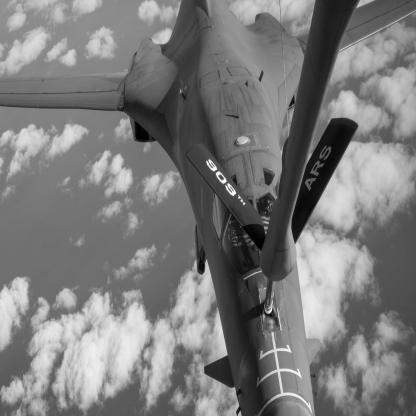B1: (1, 1, 416, 416)
